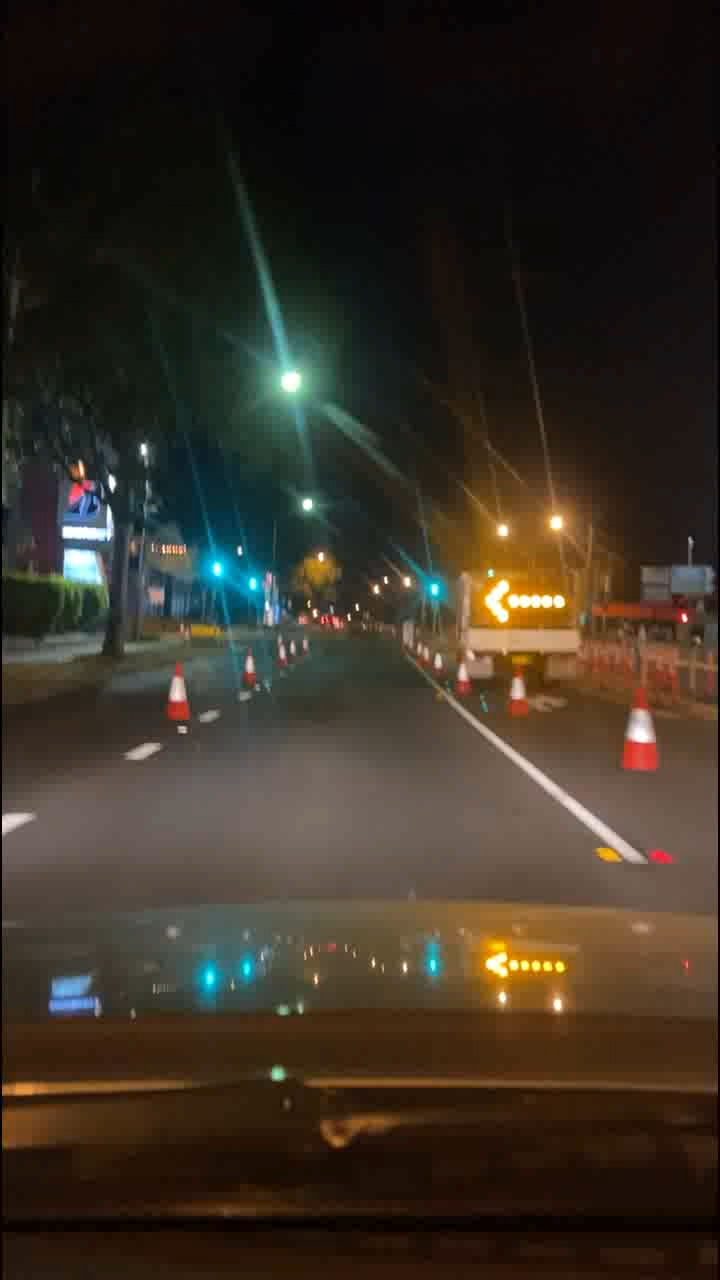road cone: (615, 682, 659, 773), (496, 651, 537, 732), (164, 659, 199, 730), (224, 632, 259, 703), (275, 620, 318, 663)
truck: (424, 571, 589, 684)
